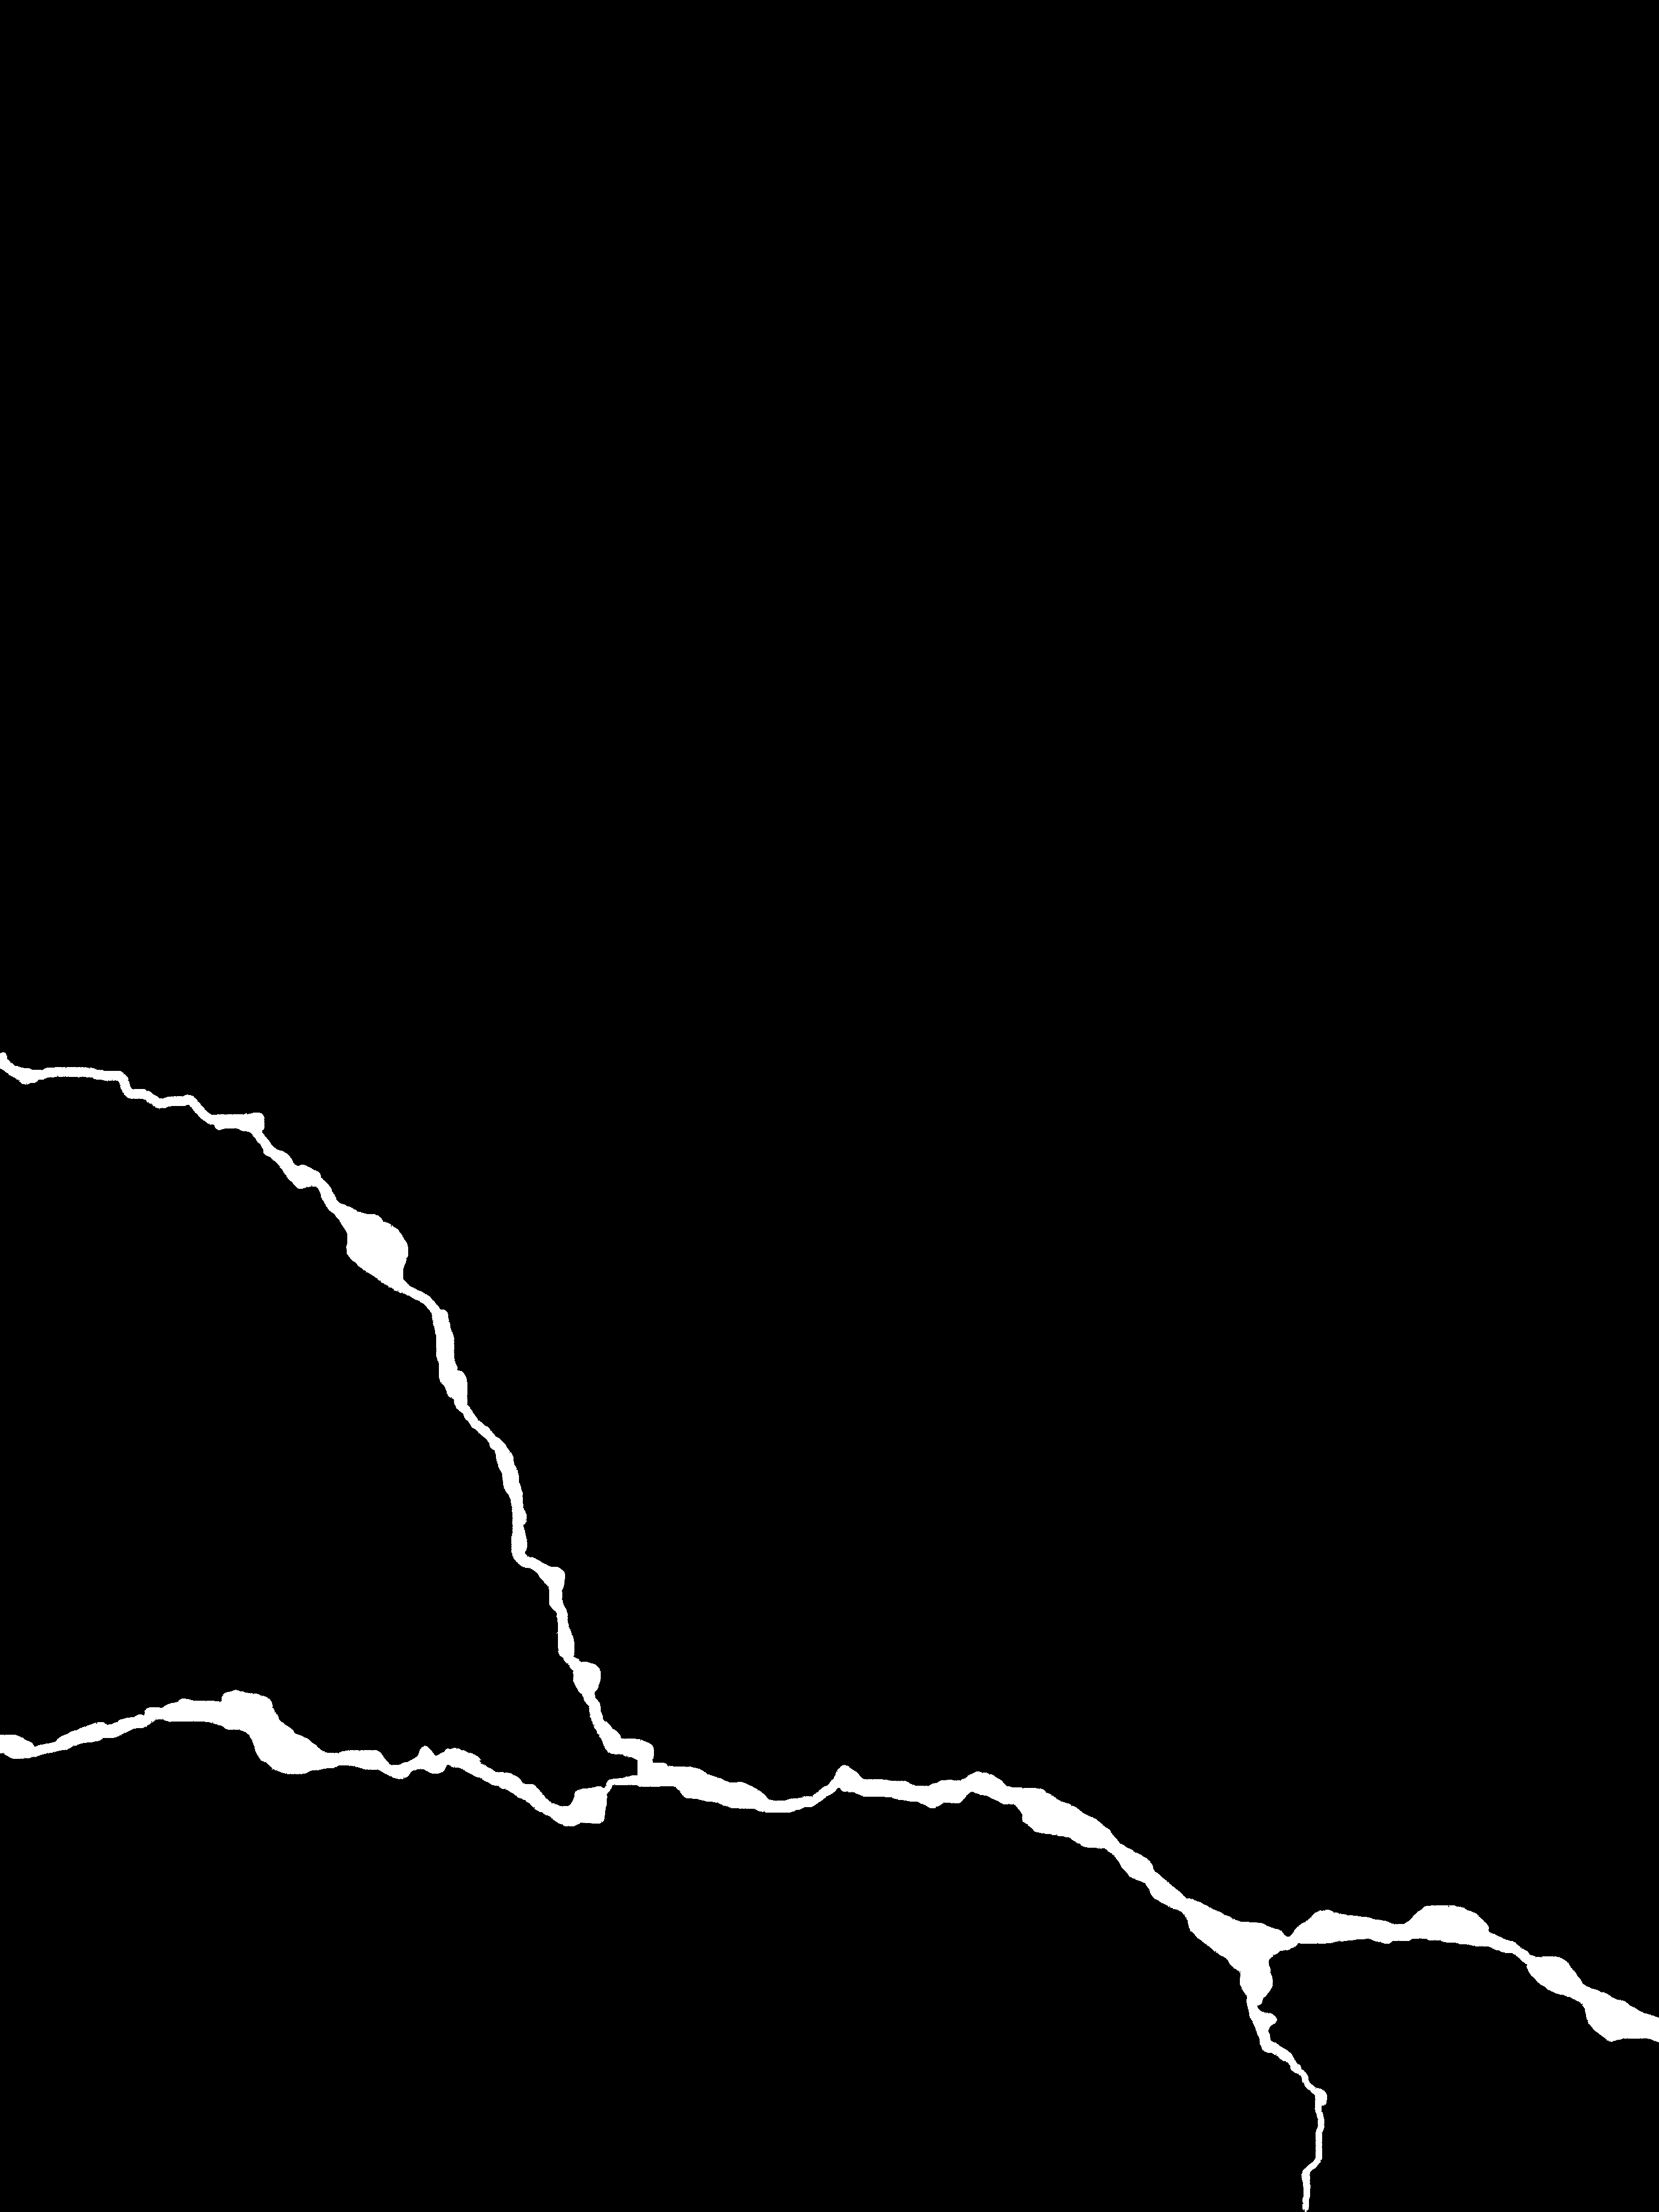Crack: (0, 1038, 1659, 2212)
